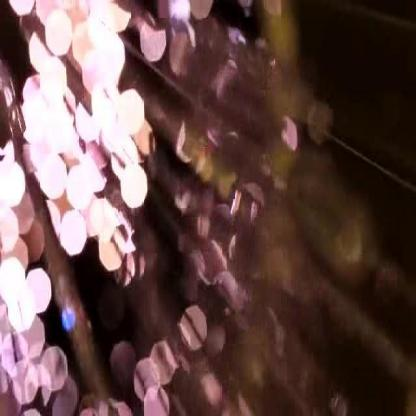other: (2, 0, 234, 380)
